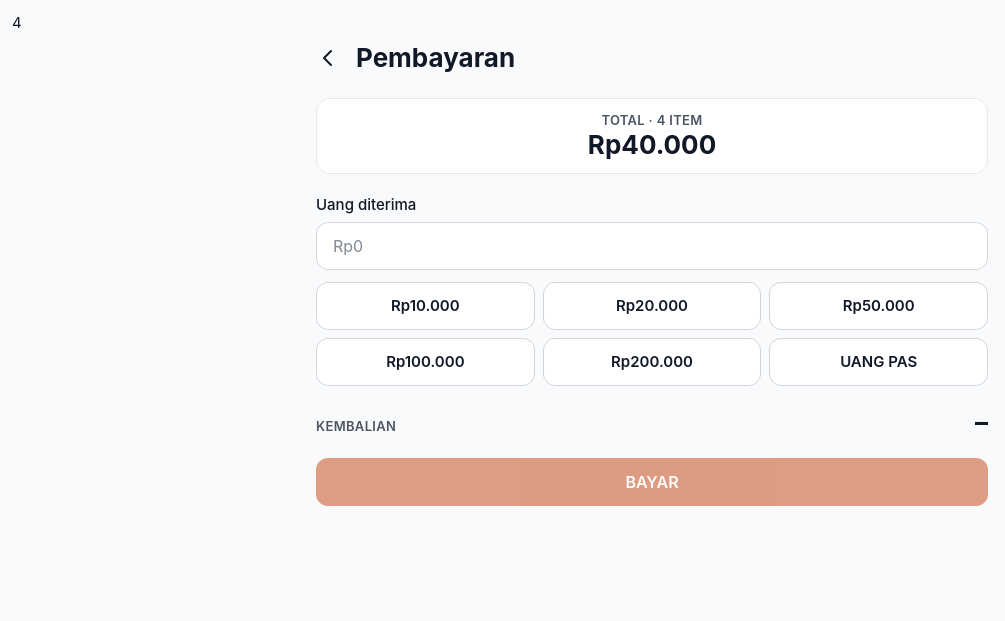
Test: PaymentForm (UI_SPEC A.12–A.13, TEST_PLAN G.4) › a payment of Rp0 is short by the whole total
The image size is (1005, 621).
Expected: the text "Rp40.000" is shown, [588,129,716,160]
Type "0" into the field labelled "Uang diterima" at (652, 246), box [316,222,988,270]
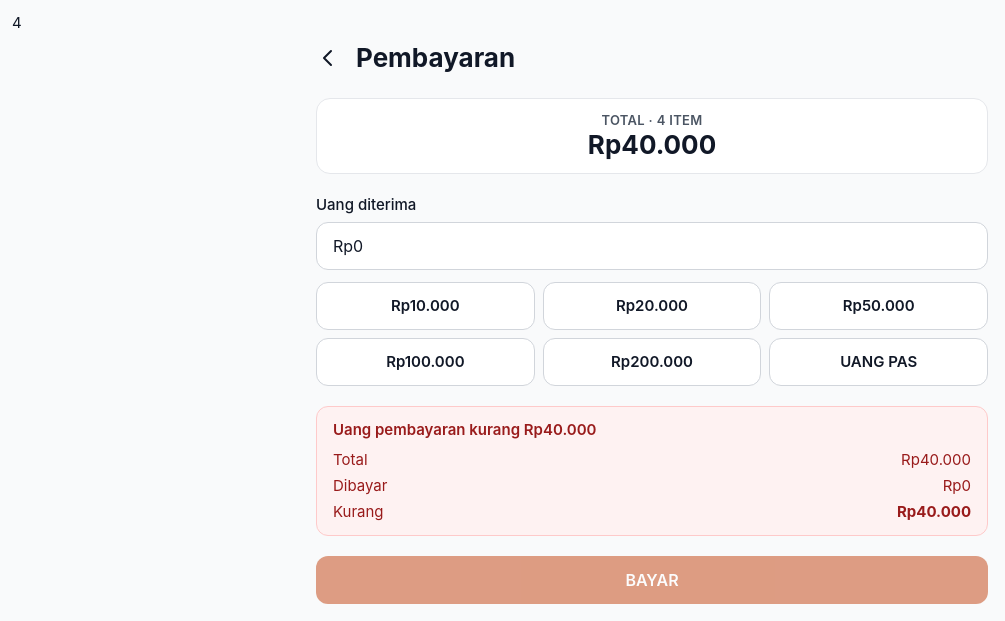
Expected: the button "BAYAR" is disabled, [316,556,988,604]
Expected: the text "Uang pembayaran kurang Rp40.000" is shown, [333,420,596,439]
